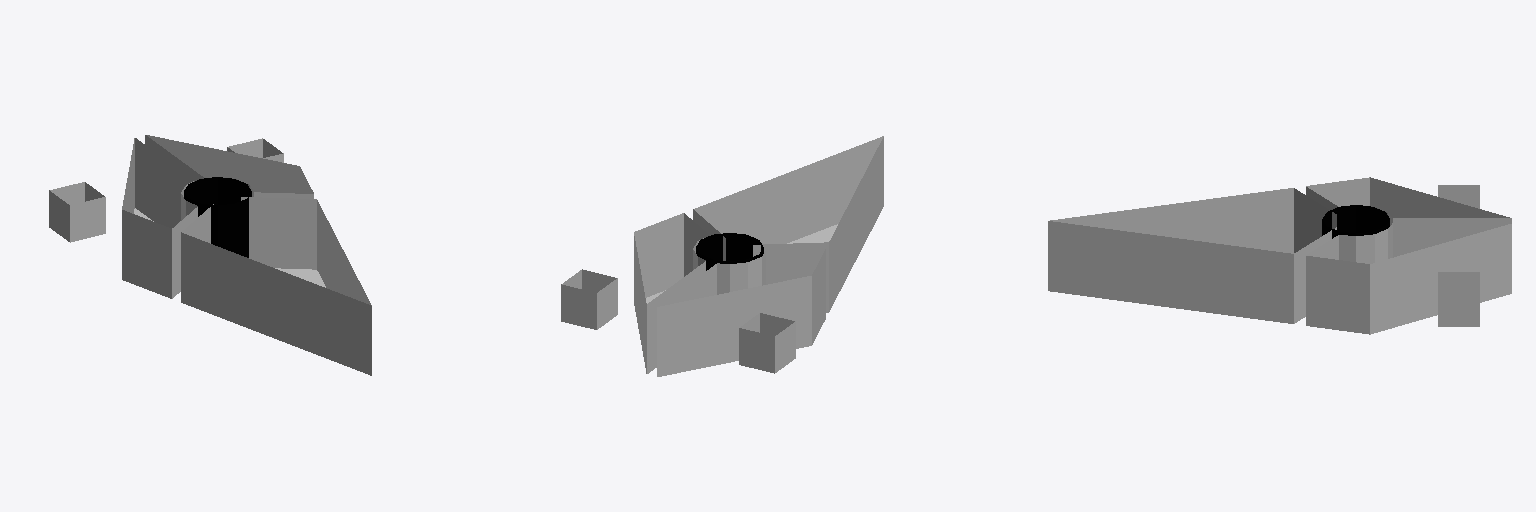
Rendered from cursor.obj.
3 renders of one model, left to right at view 1: azimuth 30°, elevation 25°; view 2: azimuth 150°, elevation 25°; view 3: azimuth 270°, elevation 25°, orthographic.
Parts seen in each view (by area): view 1: Cube_Cube.001; view 2: Cube_Cube.001; view 3: Cube_Cube.001.
Part boxes in pixels (x1,y1,x2,y2): Cube_Cube.001: (49, 135, 371, 375); Cube_Cube.001: (561, 136, 883, 376); Cube_Cube.001: (1048, 177, 1511, 334).
Bounding box in the file's own units: 1.2 × 0.3959 × 2.26.